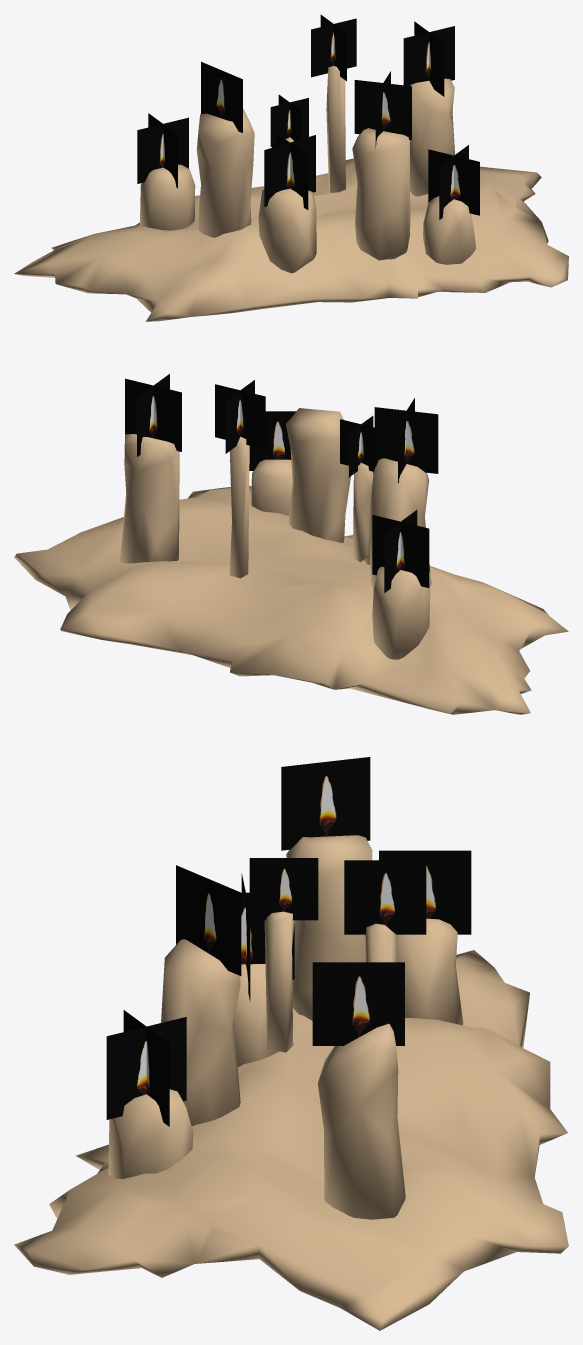
Rendered from SM_candle_set_01.fbx.
3 renders of one model, top to bottom at view 1: azimuth 30°, elevation 25°; view 2: azimuth 150°, elevation 25°; view 3: azimuth 270°, elevation 25°, orthographic. The views are drawn at different scales.
Parts seen in each view (by area): view 1: CandleSet_1; view 2: CandleSet_1; view 3: CandleSet_1.
Part boxes in pixels (x1,y1,x2,y2): CandleSet_1: (14,14,568,321); CandleSet_1: (14,374,568,714); CandleSet_1: (14,757,568,1330).
Bounding box in the file's own units: 39.35 × 15.92 × 24.5.
